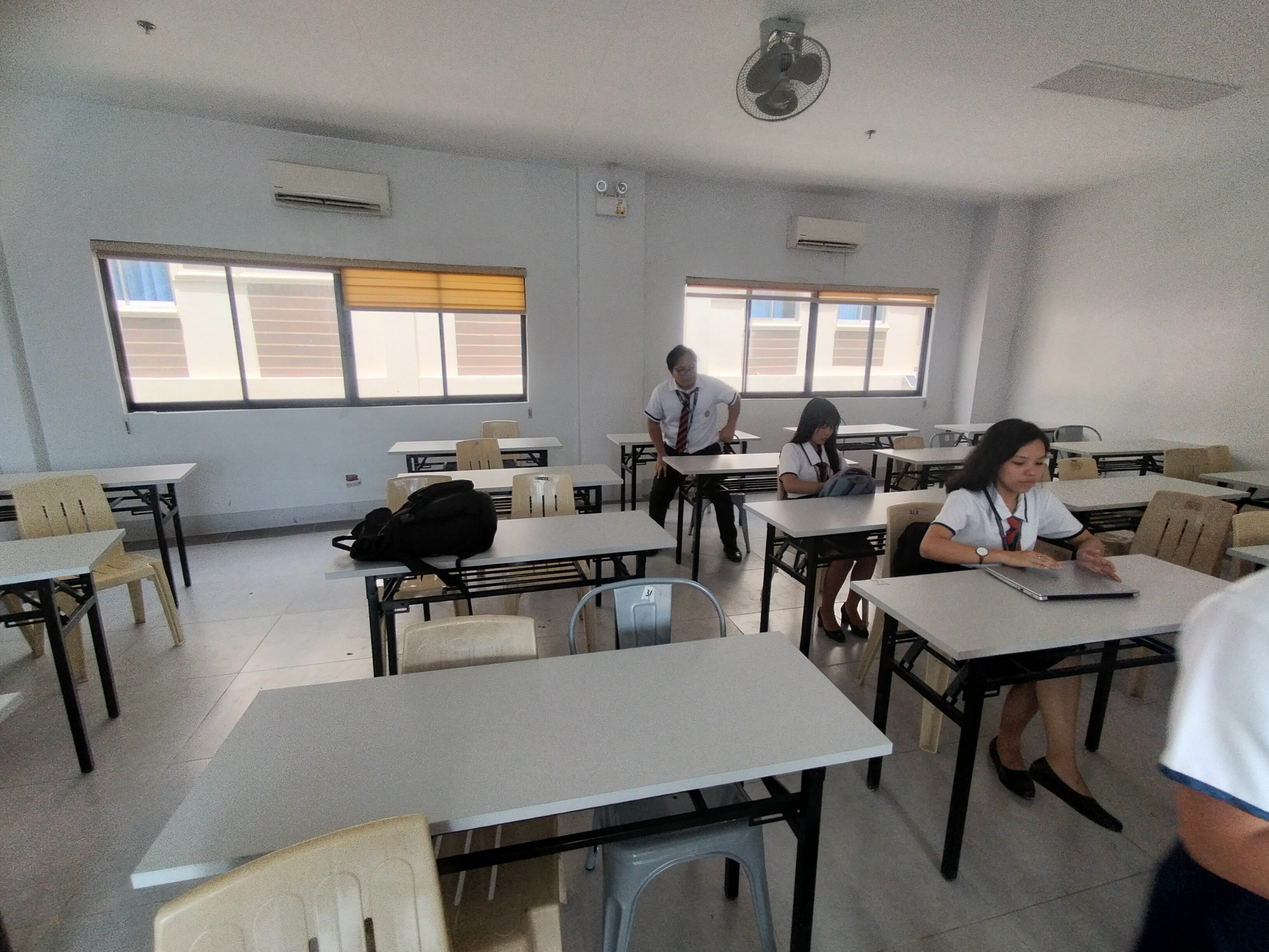with-student: (842, 420, 1269, 742), (741, 392, 974, 568)
